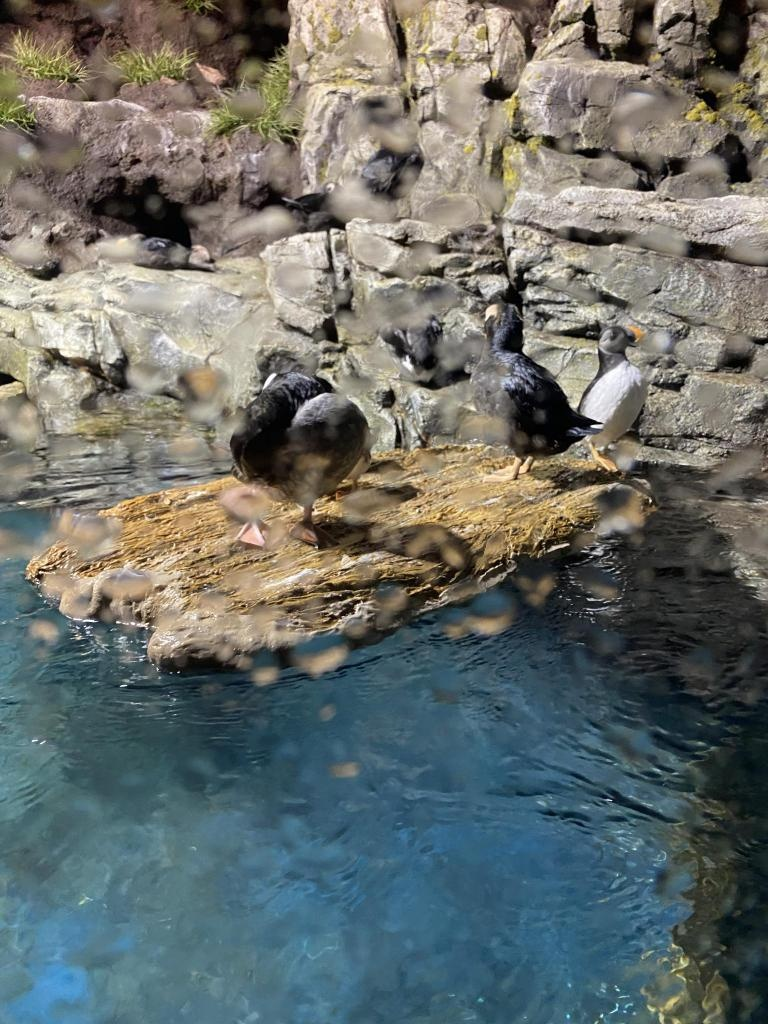puffin: (216, 340, 384, 540), (454, 308, 578, 468), (586, 316, 658, 462)
